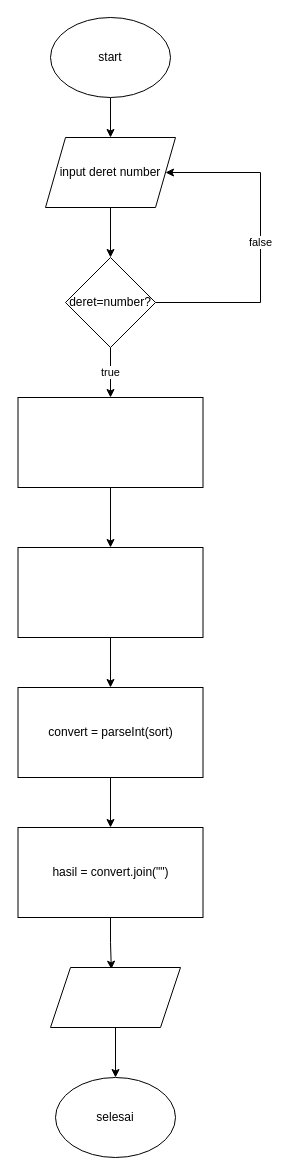
Image size: 289x1175. Some labels were removed from this diagram. Here are the shapes that lost their labels. From the top down, the centre of each, then its label:
[110,442]: pisah = number.toString().split("0")
[110,592]: sort = pisah.map().split("").sort()
[115,997]: hasiil
